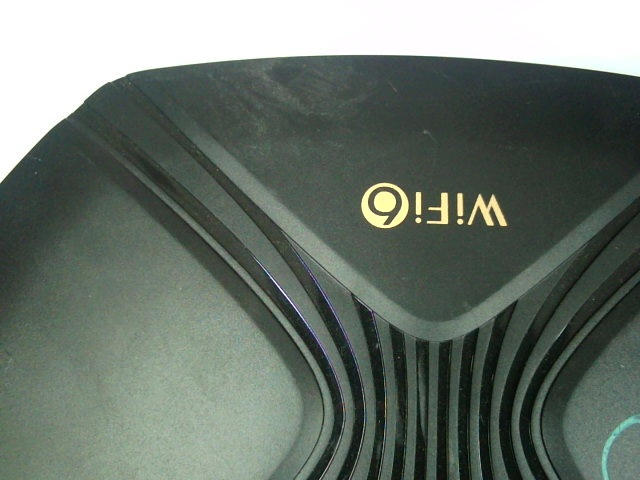AK_ZTEWIFI6Black: (354, 172, 513, 236)
